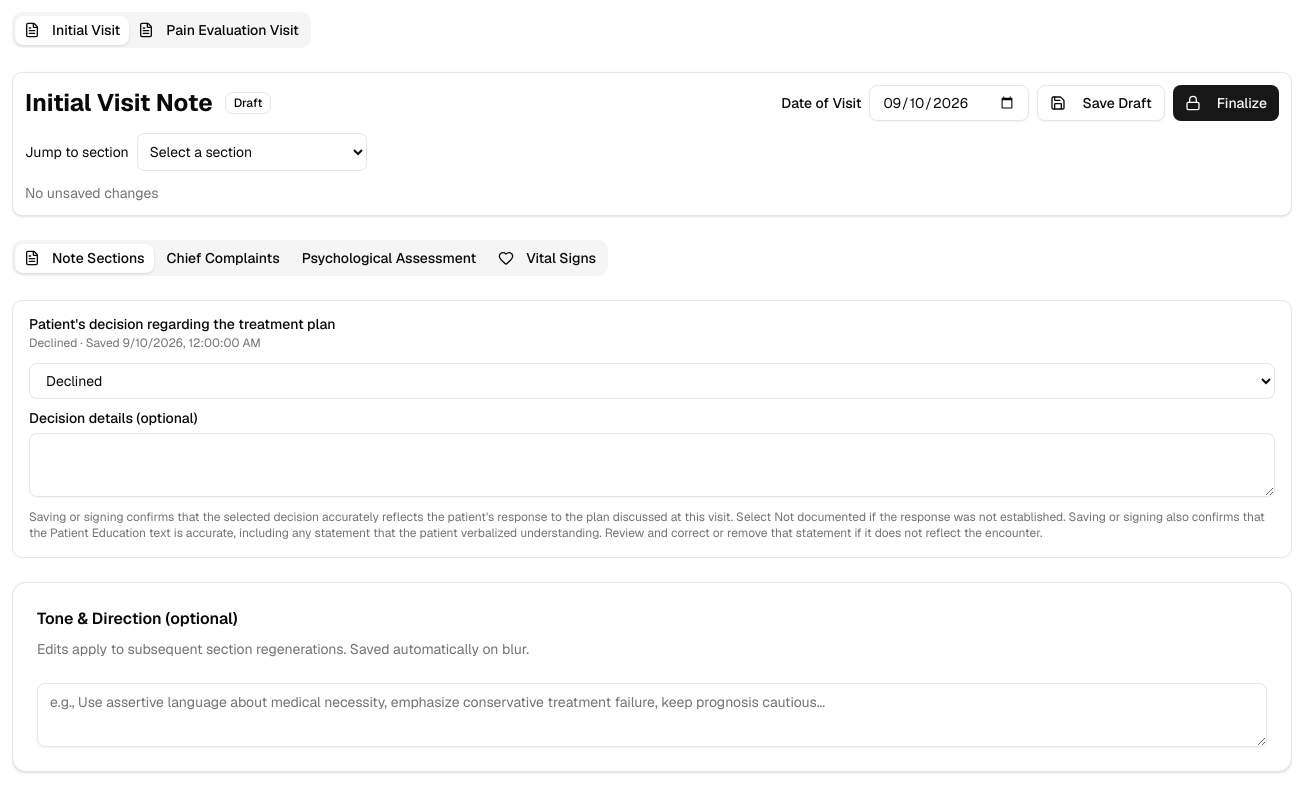
Scenario: hides section navigation while intake is selected
Click the tab "Vital Signs" at (547, 258), box left=489, top=244, right=605, bottom=272
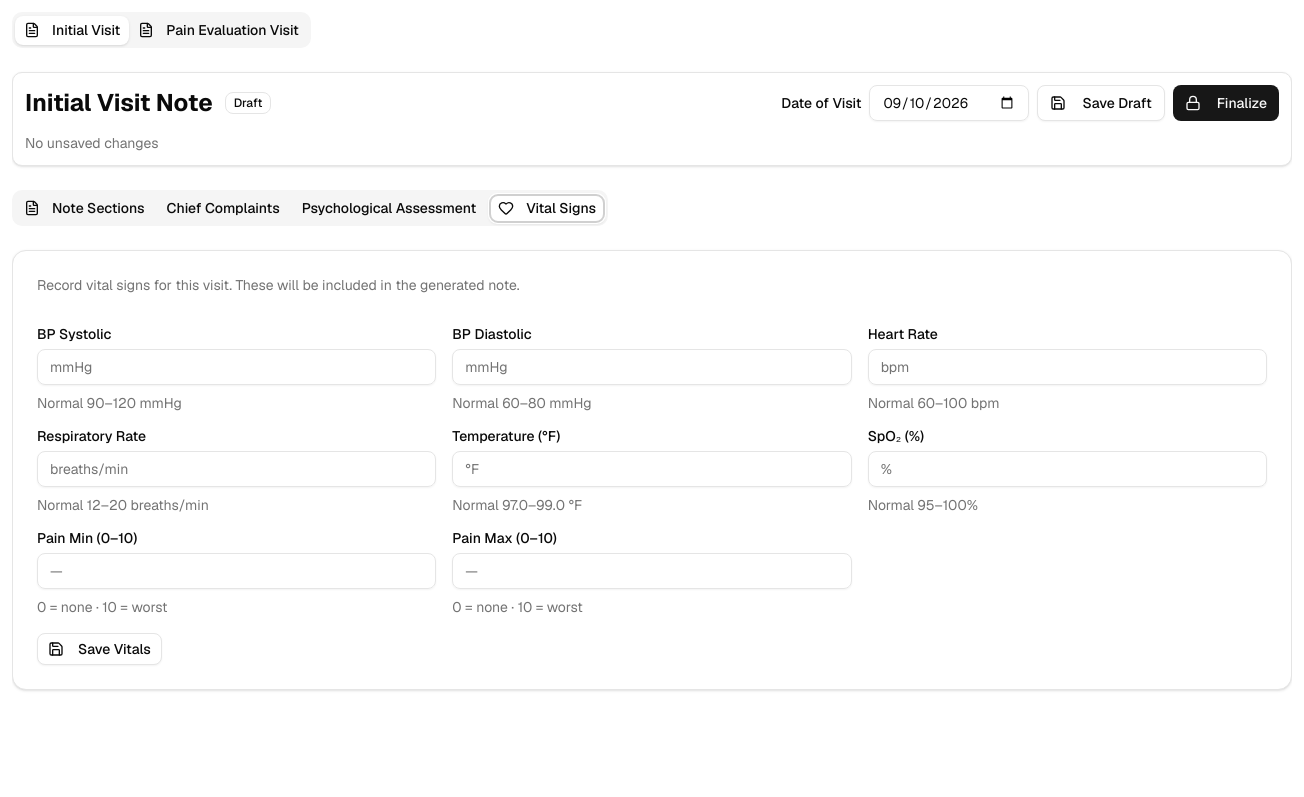
Now the label "Jump to section" is gone
